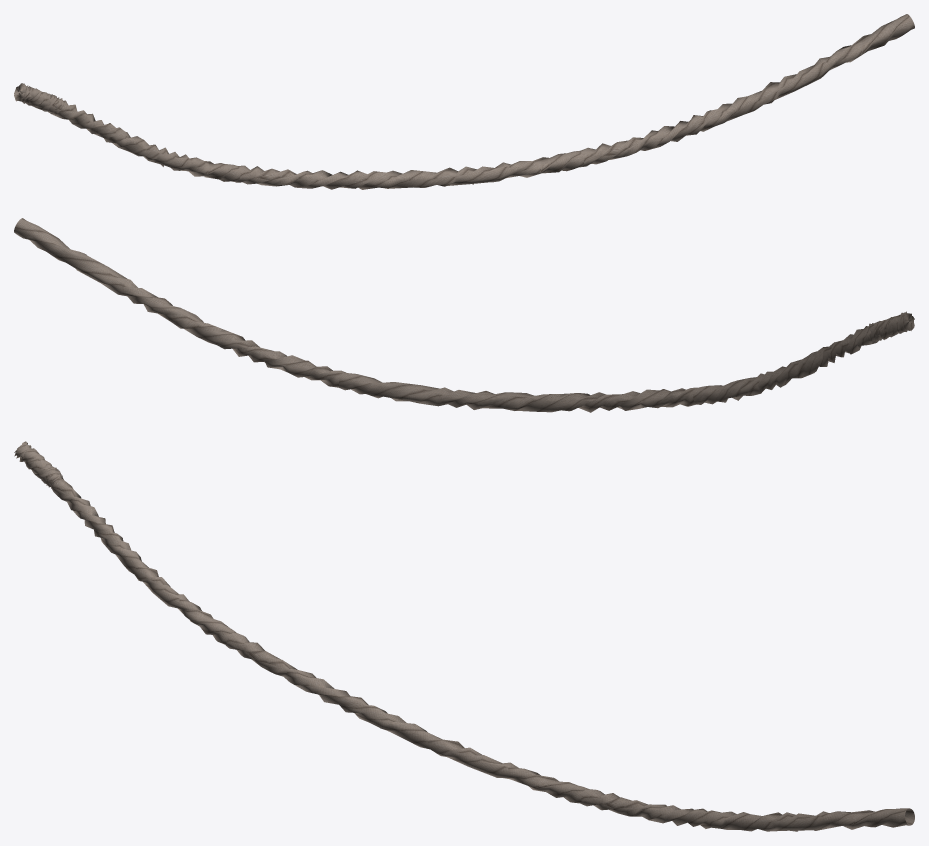
File: SM_RopeSplineMesh_Splines_5.fbx
The picture shows the model from 3 angles, top to bottom: view 1: azimuth 30°, elevation 25°; view 2: azimuth 150°, elevation 25°; view 3: azimuth 330°, elevation 25°; orthographic projection. The views are drawn at different scales.
Visible parts, largest first — view 1: SM_RopeSplineMesh_Splines_5; view 2: SM_RopeSplineMesh_Splines_5; view 3: SM_RopeSplineMesh_Splines_5.
Boxes of the visible parts, x1=… form: SM_RopeSplineMesh_Splines_5: x1=14, y1=14, x2=914, y2=189; SM_RopeSplineMesh_Splines_5: x1=14, y1=218, x2=914, y2=412; SM_RopeSplineMesh_Splines_5: x1=14, y1=441, x2=914, y2=831.
Bounding box in the file's own units: 226 × 10.41 × 52.08.
